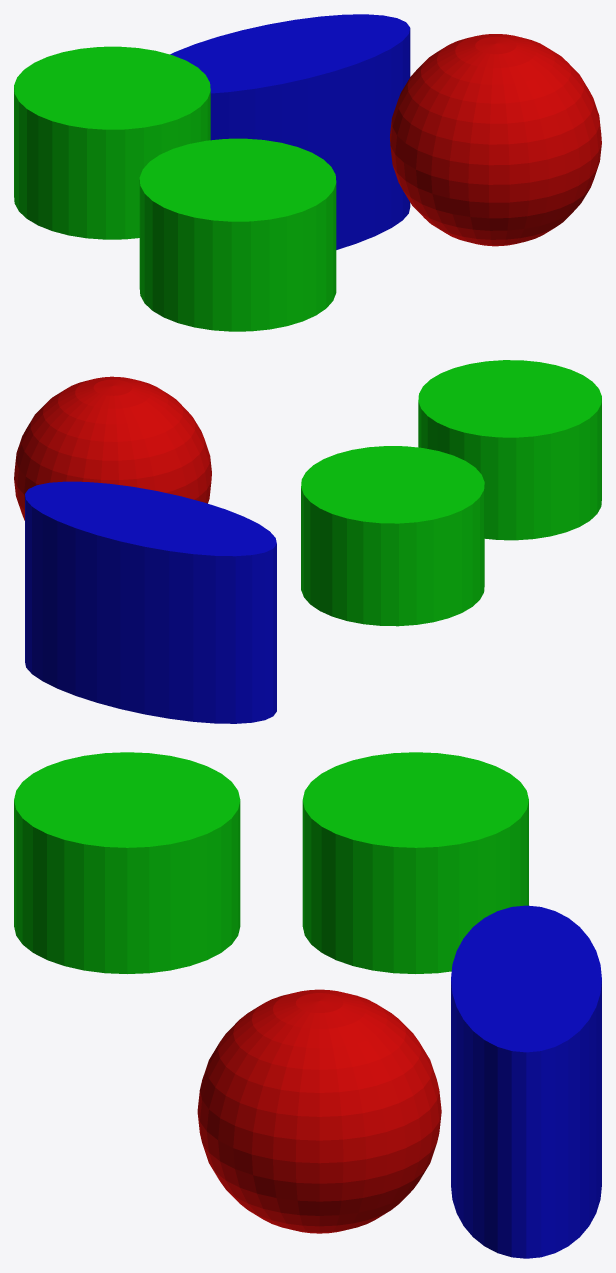
The model's file is minicargador_boton2_derecho.obj.
3 views of the same model, one above another, from view 1: azimuth 30°, elevation 25°; view 2: azimuth 150°, elevation 25°; view 3: azimuth 270°, elevation 25° (orthographic). The views are drawn at different scales.
Visible parts, largest first — view 1: Esfera.001, Cilindro.011, Cilindro.009, Cilindro.013; view 2: Cilindro.009, Cilindro.013, Cilindro.011, Esfera.001; view 3: Cilindro.009, Esfera.001, Cilindro.011, Cilindro.013.
Part boxes in pixels (x1,y1,x2,y2): Esfera.001: [390, 34, 601, 246]; Cilindro.011: [139, 138, 336, 331]; Cilindro.009: [170, 14, 410, 249]; Cilindro.013: [14, 46, 210, 239]; Cilindro.009: [25, 481, 276, 723]; Cilindro.013: [301, 446, 484, 626]; Cilindro.011: [418, 360, 601, 540]; Esfera.001: [14, 376, 211, 520]; Cilindro.009: [451, 905, 601, 1258]; Esfera.001: [197, 989, 441, 1233]; Cilindro.011: [14, 752, 240, 973]; Cilindro.013: [302, 752, 528, 973].
Size of the model in its own units: 0.8794 by 0.3763 by 0.7512.
